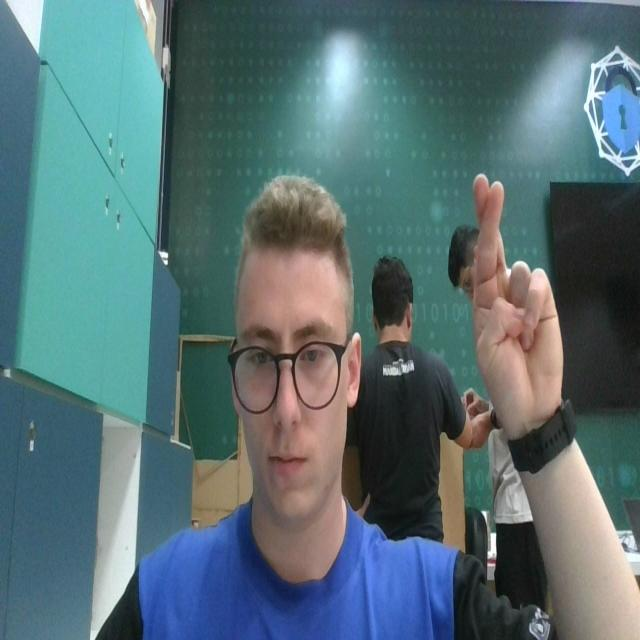R: (472, 169, 565, 435)
